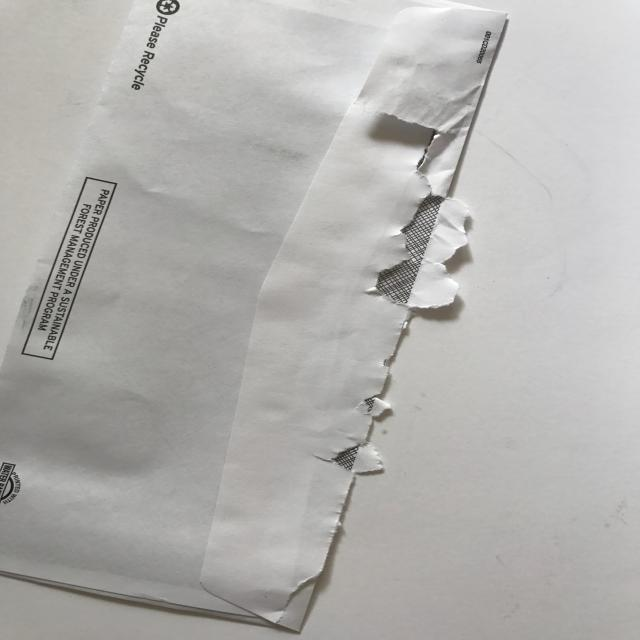paper: (0, 3, 513, 640)
